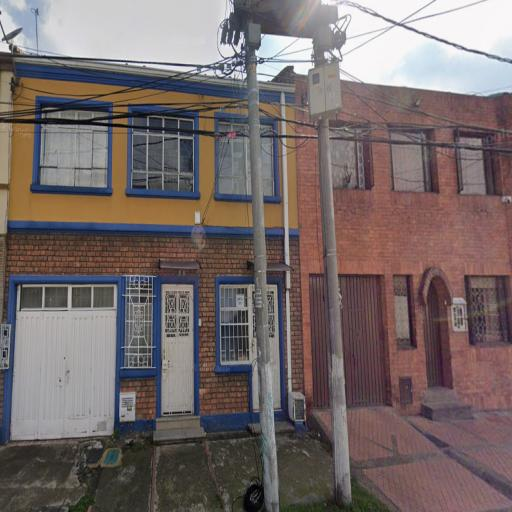Casa: (0, 48, 307, 443), (294, 68, 512, 420)
postes: (219, 0, 282, 512), (304, 13, 354, 512)
